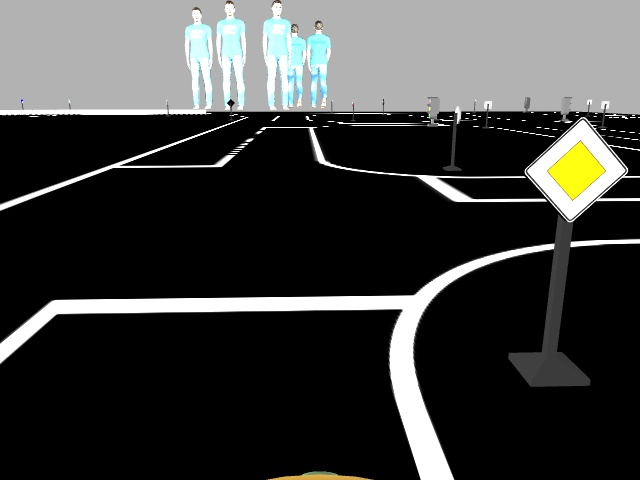Priority: (522, 114, 629, 223)
